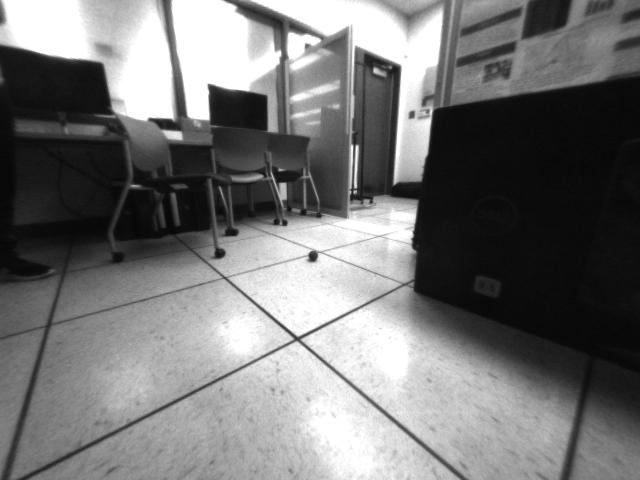dogtoy: (303, 246, 325, 268)
